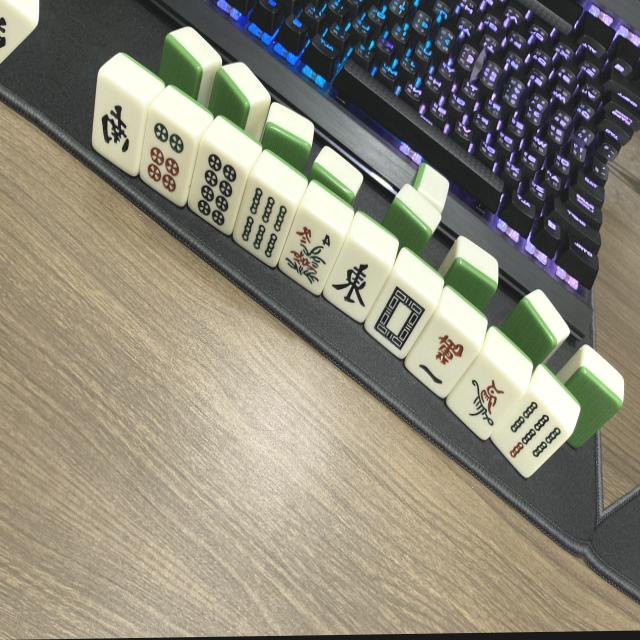bai: (361, 275, 436, 361)
east: (320, 239, 391, 324)
ff4: (274, 210, 345, 295)
m1: (403, 313, 481, 399)
s1: (446, 358, 524, 442)
s6: (226, 181, 296, 265)
s7: (492, 394, 570, 480)
south: (85, 84, 148, 176)
t6: (134, 114, 201, 204)
t8: (182, 145, 252, 233)
